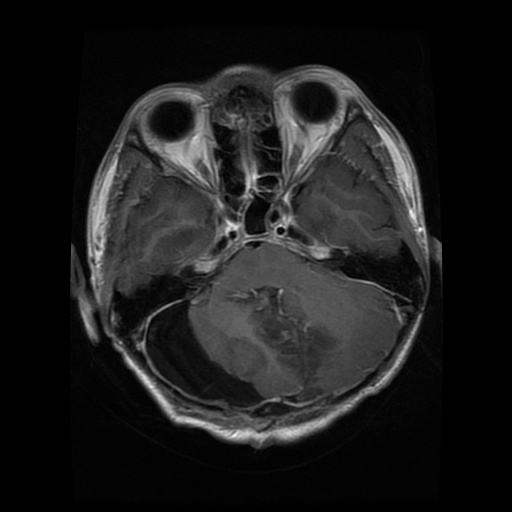glioma: (226, 284, 340, 386)
